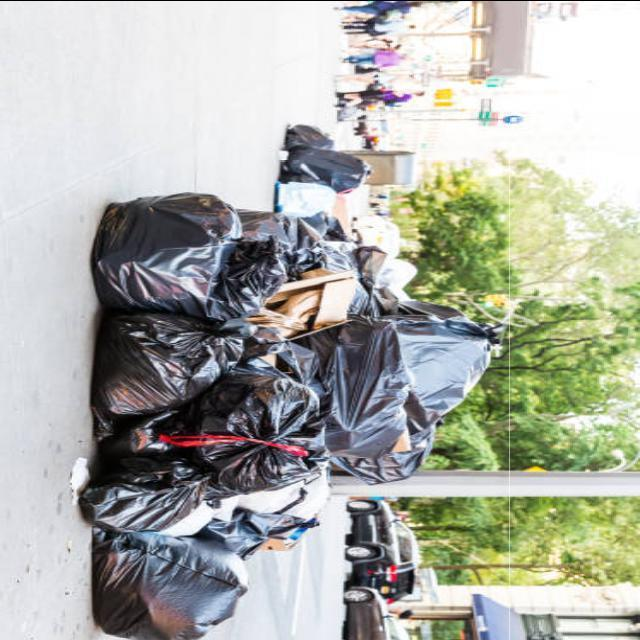Trashbag: (100, 195, 277, 331), (90, 523, 255, 635), (291, 332, 421, 471), (98, 318, 238, 414), (383, 302, 500, 400), (214, 397, 311, 494), (83, 467, 220, 532), (286, 124, 367, 197)
